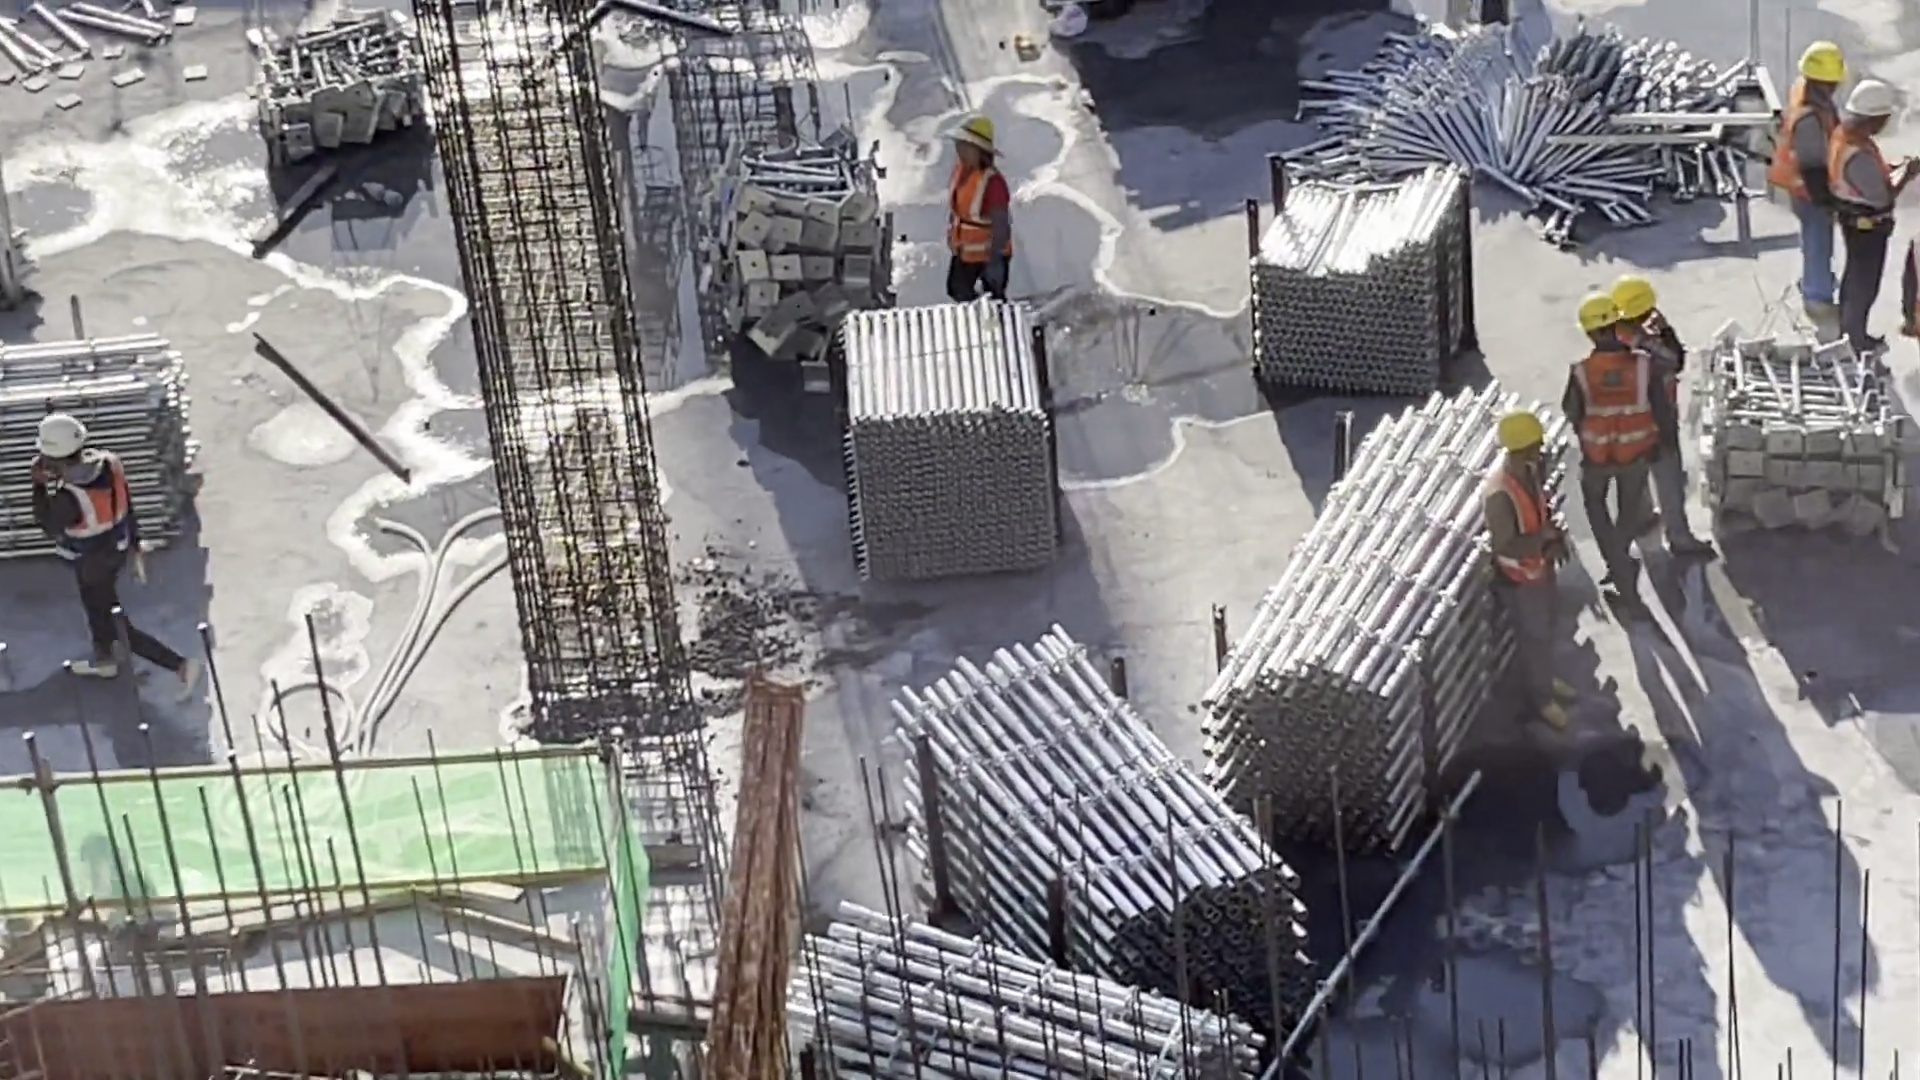helmet: (23, 411, 84, 462), (953, 109, 998, 167), (1854, 77, 1898, 136), (1793, 47, 1838, 94), (1611, 281, 1653, 326), (1583, 292, 1614, 341), (1513, 411, 1554, 447)
person: (53, 395, 199, 676), (1473, 415, 1578, 665), (1628, 300, 1721, 561), (1564, 331, 1646, 560), (944, 96, 1024, 303), (1863, 60, 1906, 348), (1788, 41, 1818, 293)
scaffold: (1233, 397, 1508, 836), (894, 684, 1271, 984), (801, 916, 1251, 1080), (866, 326, 1058, 569), (9, 329, 198, 556), (1238, 194, 1441, 371)
vest: (59, 471, 154, 571), (1586, 327, 1636, 467), (949, 164, 1009, 281), (1628, 287, 1673, 422), (1516, 446, 1553, 586), (1836, 124, 1888, 214), (1791, 94, 1831, 196)
